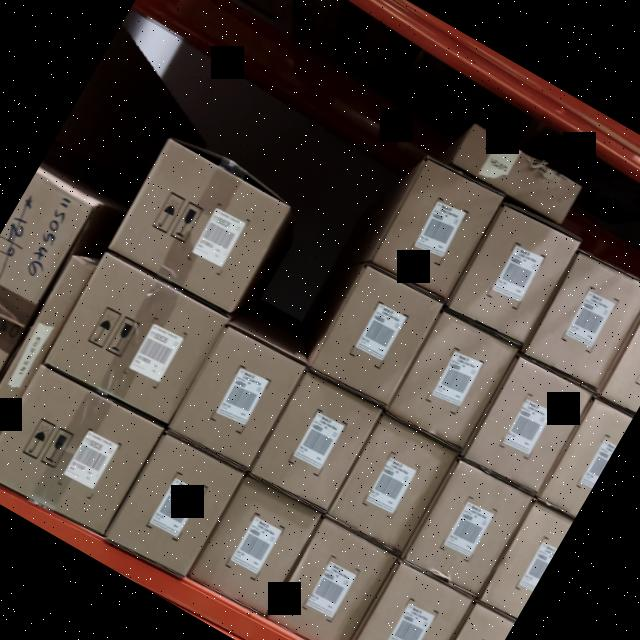box: (40, 243, 234, 432), (108, 137, 293, 314), (0, 360, 163, 533), (0, 168, 96, 447), (104, 431, 246, 582), (171, 321, 309, 469), (248, 367, 386, 514), (369, 156, 506, 304), (0, 256, 95, 468), (447, 203, 582, 352), (326, 409, 459, 553), (192, 471, 325, 613), (309, 268, 442, 410), (388, 308, 520, 451), (465, 351, 596, 494), (406, 457, 534, 597), (523, 248, 640, 389), (272, 518, 392, 640), (449, 120, 584, 228), (480, 498, 574, 620), (540, 396, 634, 517), (344, 566, 468, 640), (597, 289, 640, 416), (418, 595, 518, 640)
